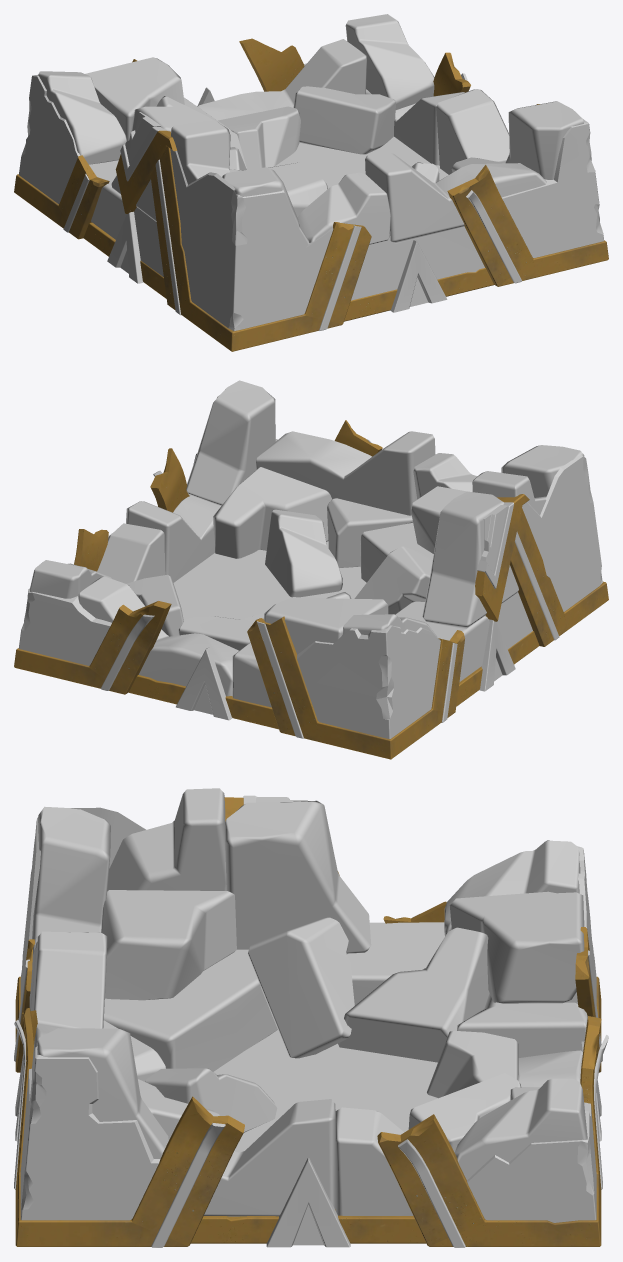
The picture shows the model from 3 angles, top to bottom: view 1: azimuth 30°, elevation 25°; view 2: azimuth 150°, elevation 25°; view 3: azimuth 270°, elevation 25°; orthographic projection. The views are drawn at different scales.
Visible parts, largest first — view 1: SM_DK_16m_TowerMid_02_LOD0; view 2: SM_DK_16m_TowerMid_02_LOD0; view 3: SM_DK_16m_TowerMid_02_LOD0.
Boxes of the visible parts, x1,y1,x2,y2 form: SM_DK_16m_TowerMid_02_LOD0: (14, 14, 608, 351); SM_DK_16m_TowerMid_02_LOD0: (14, 380, 608, 759); SM_DK_16m_TowerMid_02_LOD0: (14, 788, 608, 1247).
Size of the model in its own units: 6.39 by 2.69 by 6.45.
